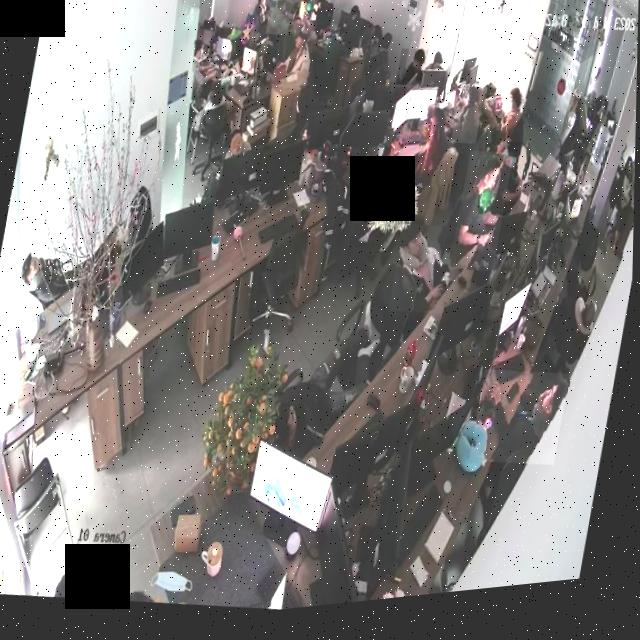person: (471, 373, 572, 484), (450, 158, 515, 286), (390, 229, 459, 328), (464, 85, 531, 162), (410, 107, 464, 201), (486, 149, 530, 231), (271, 23, 318, 99), (184, 43, 223, 114), (613, 175, 636, 273), (452, 93, 487, 157), (396, 55, 429, 97), (249, 0, 276, 50), (265, 0, 294, 43)
